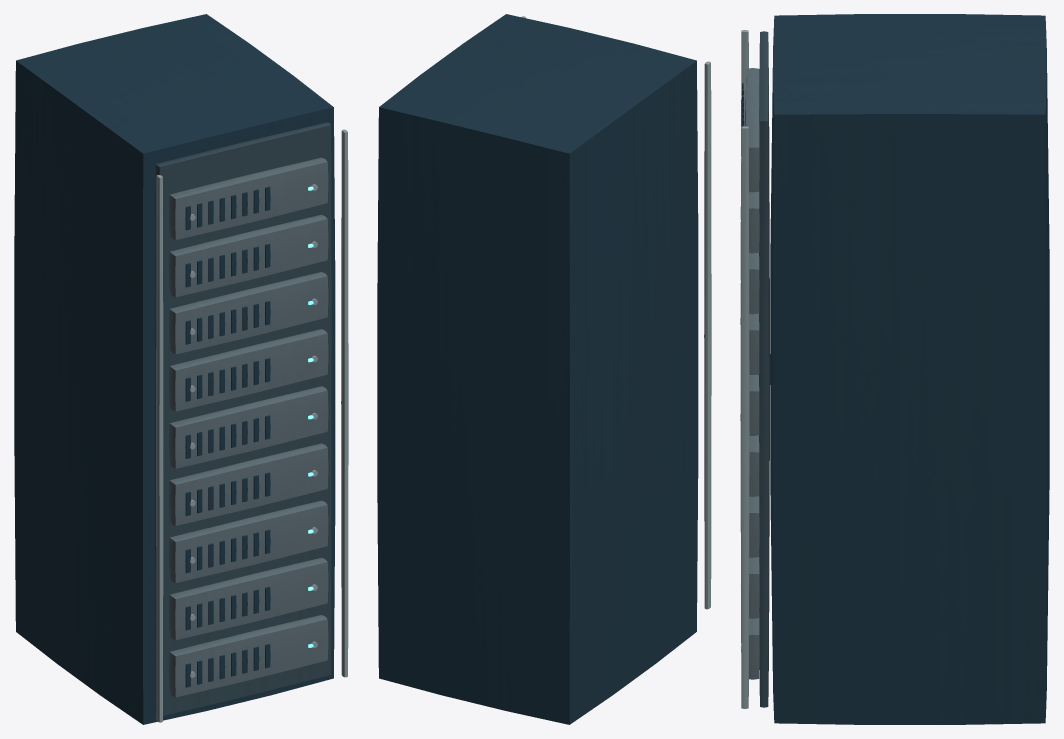
File: rack.glb
The picture shows the model from 3 angles, left to right: view 1: azimuth 30°, elevation 25°; view 2: azimuth 150°, elevation 25°; view 3: azimuth 270°, elevation 25°; orthographic projection. The views are drawn at different scales.
Parts seen in each view (by area): view 1: rack; view 2: rack; view 3: rack.
Part boxes in pixels (left/top/right/bottom): rack: left=14, top=14, right=348, bottom=724; rack: left=377, top=14, right=711, bottom=724; rack: left=740, top=14, right=1049, bottom=724.
Bounding box in the file's own units: 0.66 × 1.85 × 0.8415.
Materials: 120 (120 with a texture image).
